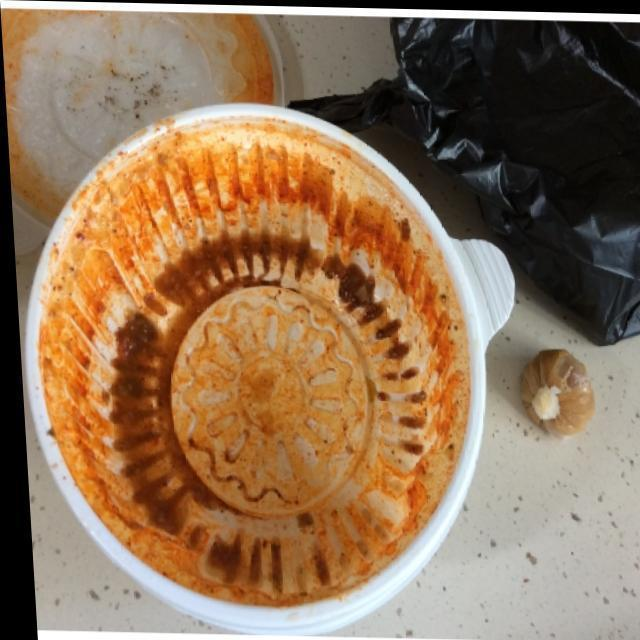disposable: (0, 97, 546, 640)
